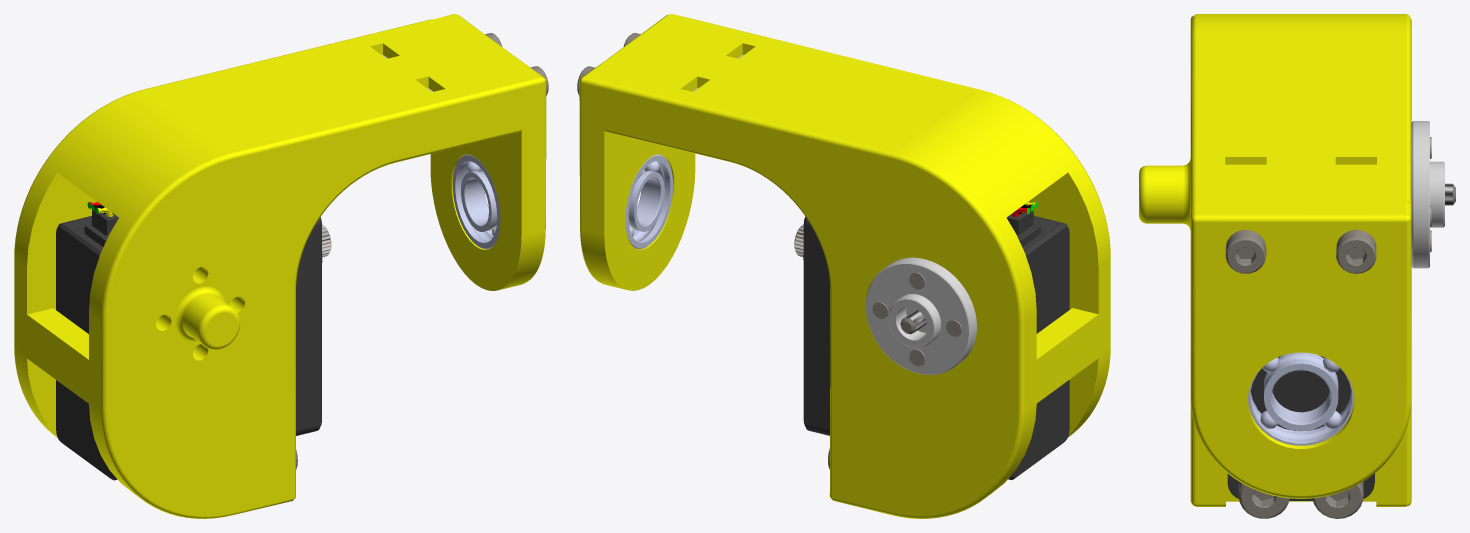
3 views of the same model, side by side, from view 1: azimuth 30°, elevation 25°; view 2: azimuth 150°, elevation 25°; view 3: azimuth 270°, elevation 25° (orthographic). The views are drawn at different scales.
Parts seen in each view (by area): view 1: mesh 11 Boss-Extrude4, mesh 5 RR1 joint-1/688 CN-1/bearing_688_1_03-1, mesh 2 RR1 joint-1/M4 Nut DIN 934-6; view 2: mesh 11 Boss-Extrude4, mesh 5 RR1 joint-1/688 CN-1/bearing_688_1_03-1, mesh 13 Boss-Extrude1, mesh 2 RR1 joint-1/M4 Nut DIN 934-6, mesh 14 Boss-Extrude2; view 3: mesh 11 Boss-Extrude4, mesh 4 RR1 joint-1/688 CN-1/bearing_688_1_02-1, mesh 2 RR1 joint-1/M4 Nut DIN 934-6, mesh 13 Boss-Extrude1, mesh 5 RR1 joint-1/688 CN-1/bearing_688_1_03-1.
Boxes of the visible parts, box(x1,y1,x2,y2) form: mesh 11 Boss-Extrude4: box(14, 14, 546, 518); mesh 5 RR1 joint-1/688 CN-1/bearing_688_1_03-1: box(56, 210, 322, 480); mesh 2 RR1 joint-1/M4 Nut DIN 934-6: box(452, 154, 500, 249); mesh 11 Boss-Extrude4: box(579, 14, 1110, 518); mesh 5 RR1 joint-1/688 CN-1/bearing_688_1_03-1: box(803, 210, 1069, 479); mesh 13 Boss-Extrude1: box(865, 257, 976, 374); mesh 2 RR1 joint-1/M4 Nut DIN 934-6: box(625, 154, 673, 248); mesh 14 Boss-Extrude2: box(872, 272, 961, 366); mesh 11 Boss-Extrude4: box(1139, 14, 1411, 506); mesh 4 RR1 joint-1/688 CN-1/bearing_688_1_02-1: box(1225, 184, 1455, 518); mesh 2 RR1 joint-1/M4 Nut DIN 934-6: box(1248, 352, 1354, 445); mesh 13 Boss-Extrude1: box(1411, 121, 1444, 268); mesh 5 RR1 joint-1/688 CN-1/bearing_688_1_03-1: box(1227, 355, 1374, 500).
Size of the model in its own units: 0.0877 by 0.066 by 0.043.
Materials: 14 (1 with a texture image).
